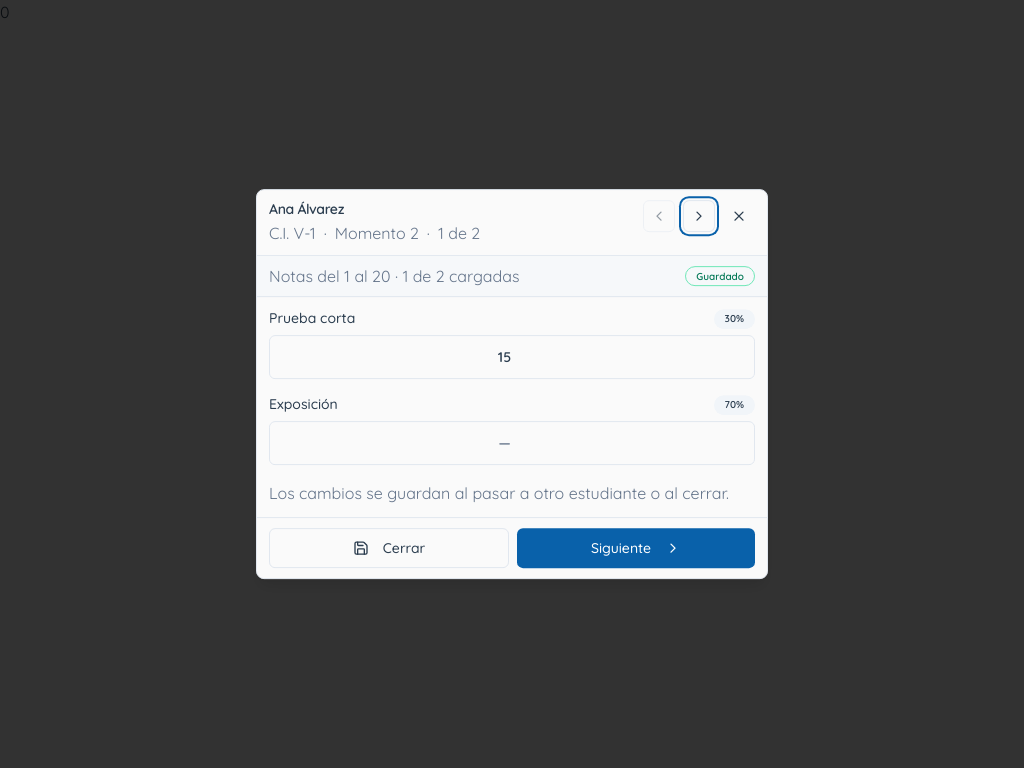
Scenario: StudentGradesDialog › saves only the changed grades and moves to the next student
In the number field labelled "Exposición 70%": (512,443) [269,421,755,465], type "18"
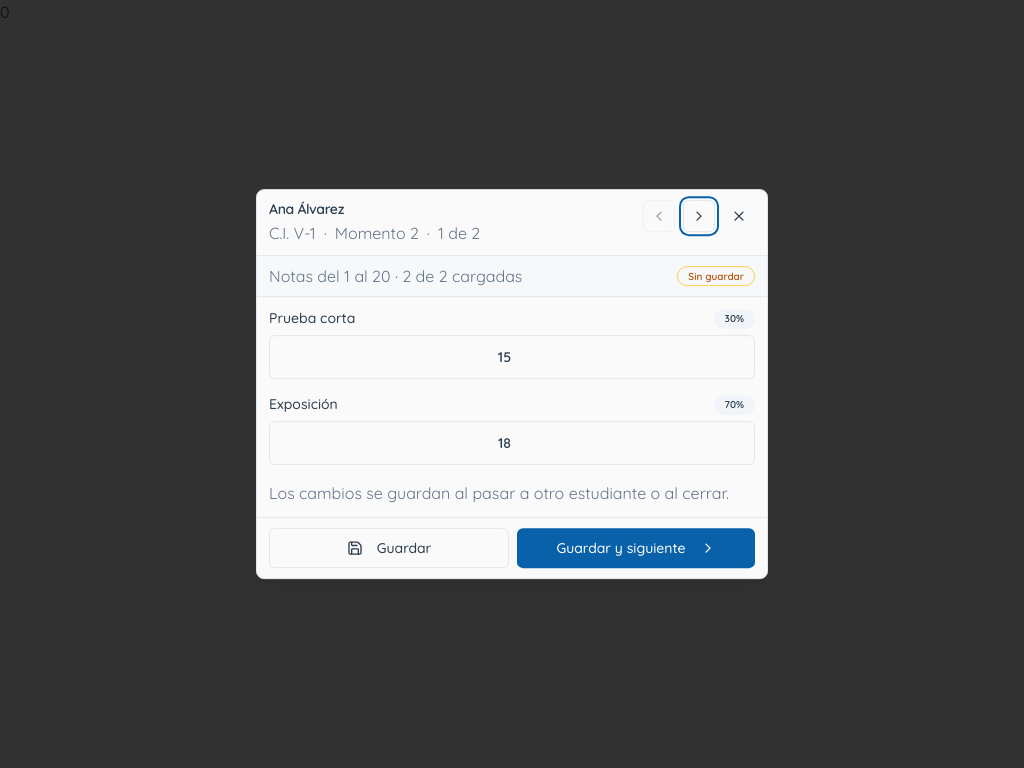
Click the button "Guardar y siguiente": (636,548) [517,528,755,568]
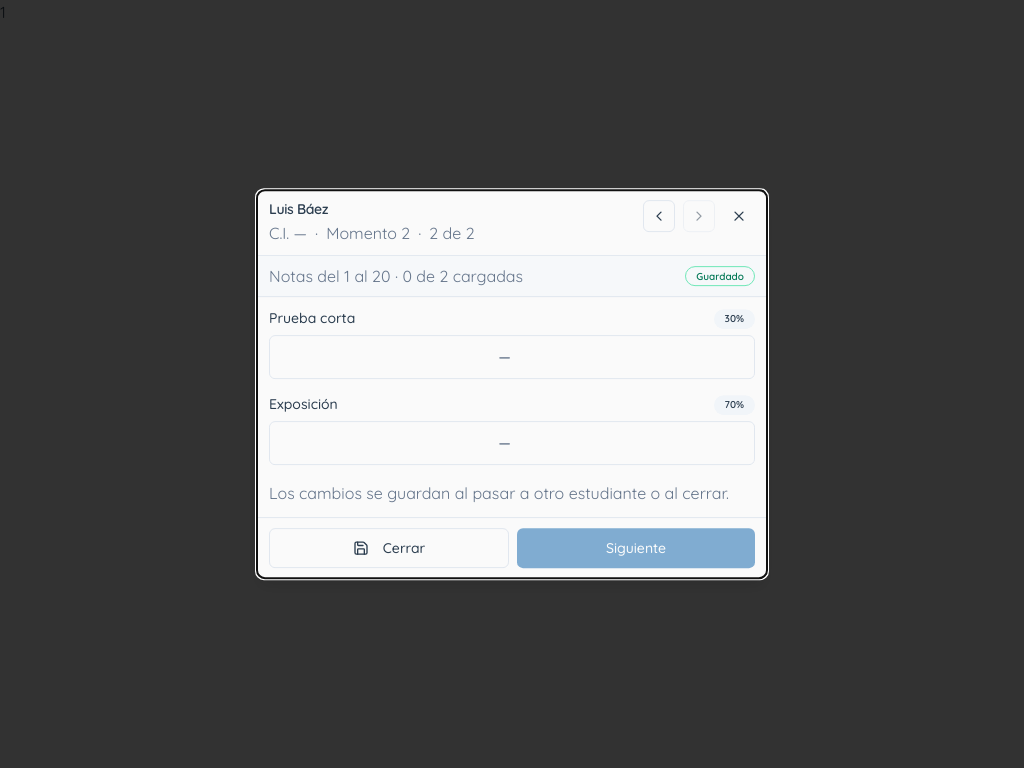
Expected: the text with test id "index" reads "1", [0,2,6,22]
Expected: the heading "Luis Báez" is shown, [269,200,328,218]
